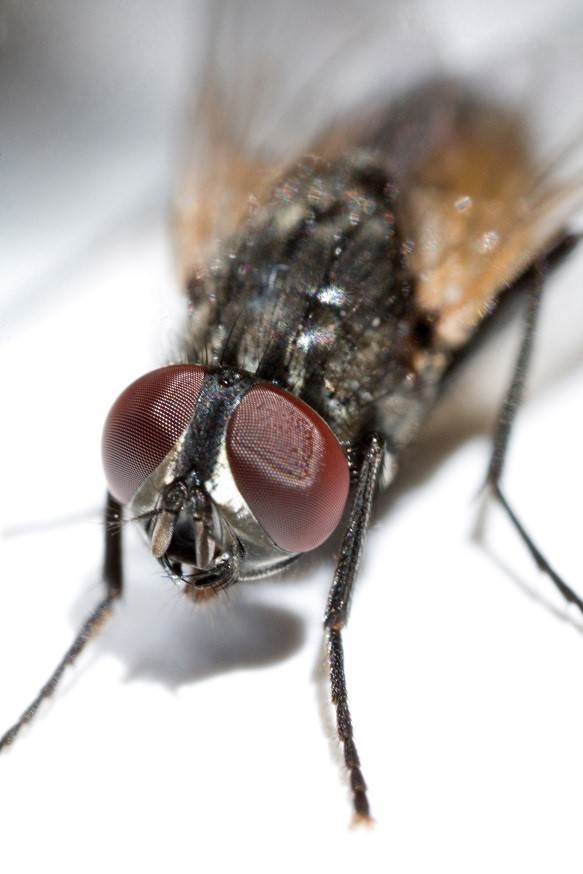fly: (1, 7, 580, 842)
